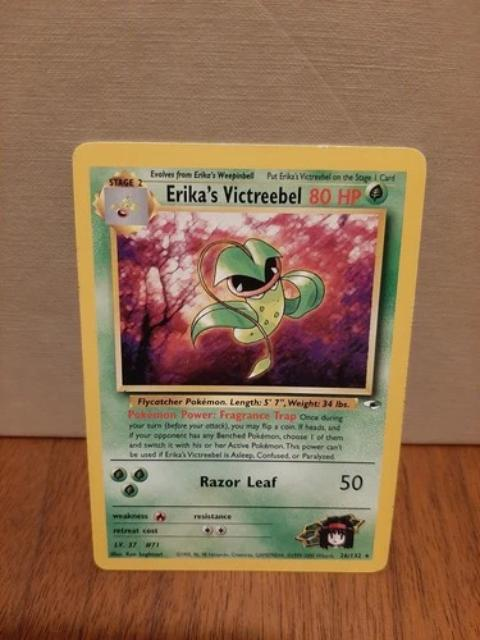Card: (68, 135, 432, 578)
Name: (164, 179, 309, 209)
